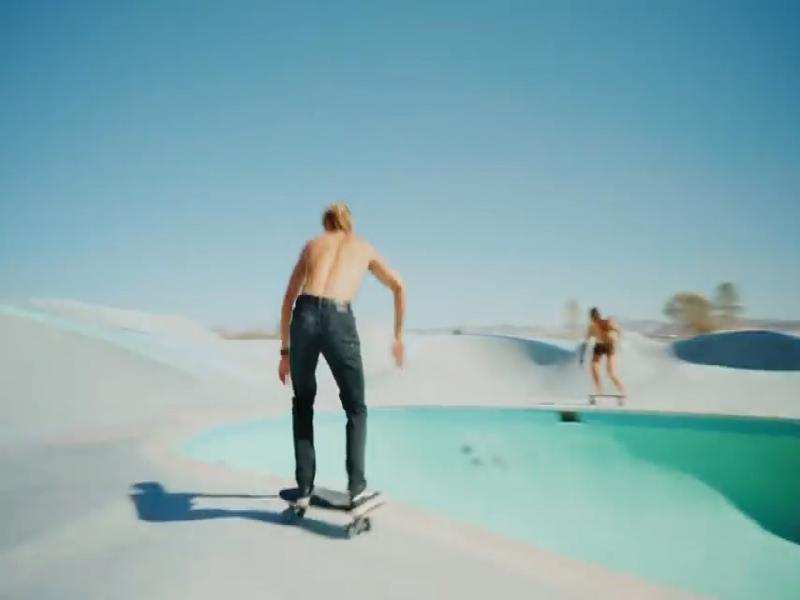person: (280, 202, 405, 500), (586, 309, 625, 397)
skate: (280, 488, 386, 537), (589, 394, 625, 407)
